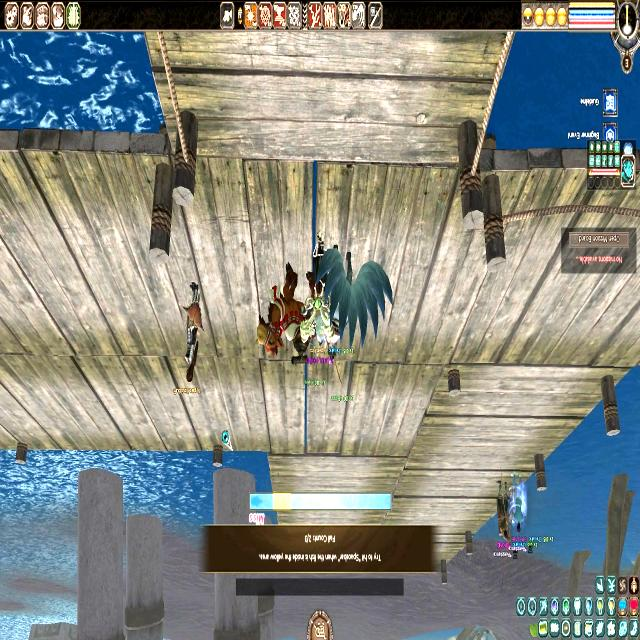box: (273, 493, 291, 510)
fishes: (250, 494, 264, 508)
